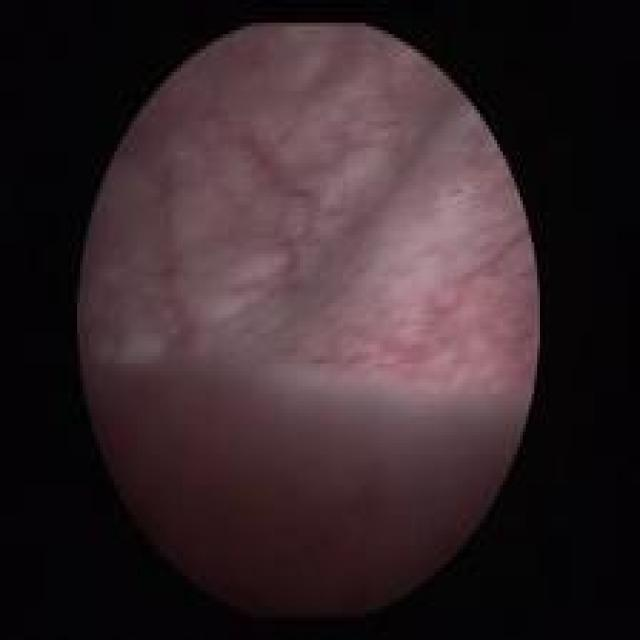blur: (76, 21, 539, 621)
color misalignment: (251, 369, 525, 429)
contrast: (85, 369, 530, 623)
